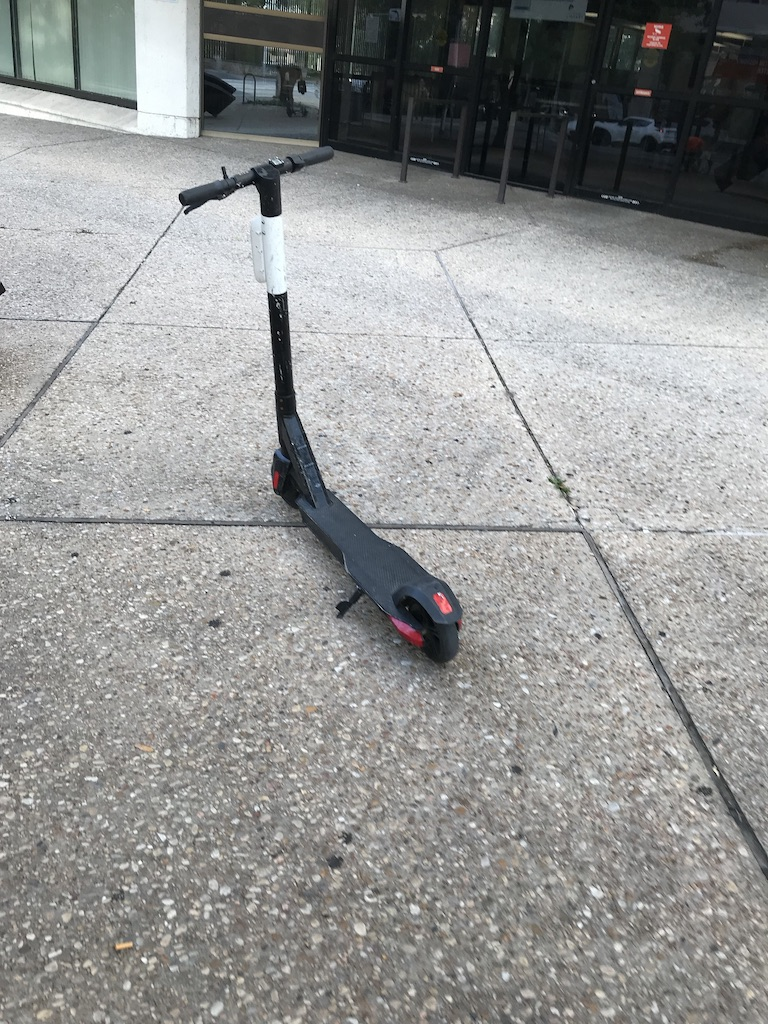scooter: (179, 146, 463, 663)
